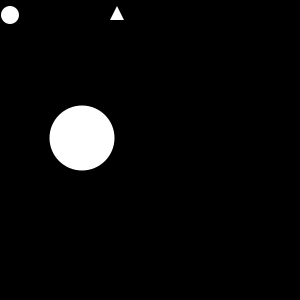rectangle: (49, 106, 114, 170), (1, 6, 19, 24)
triangle: (110, 6, 124, 20)
